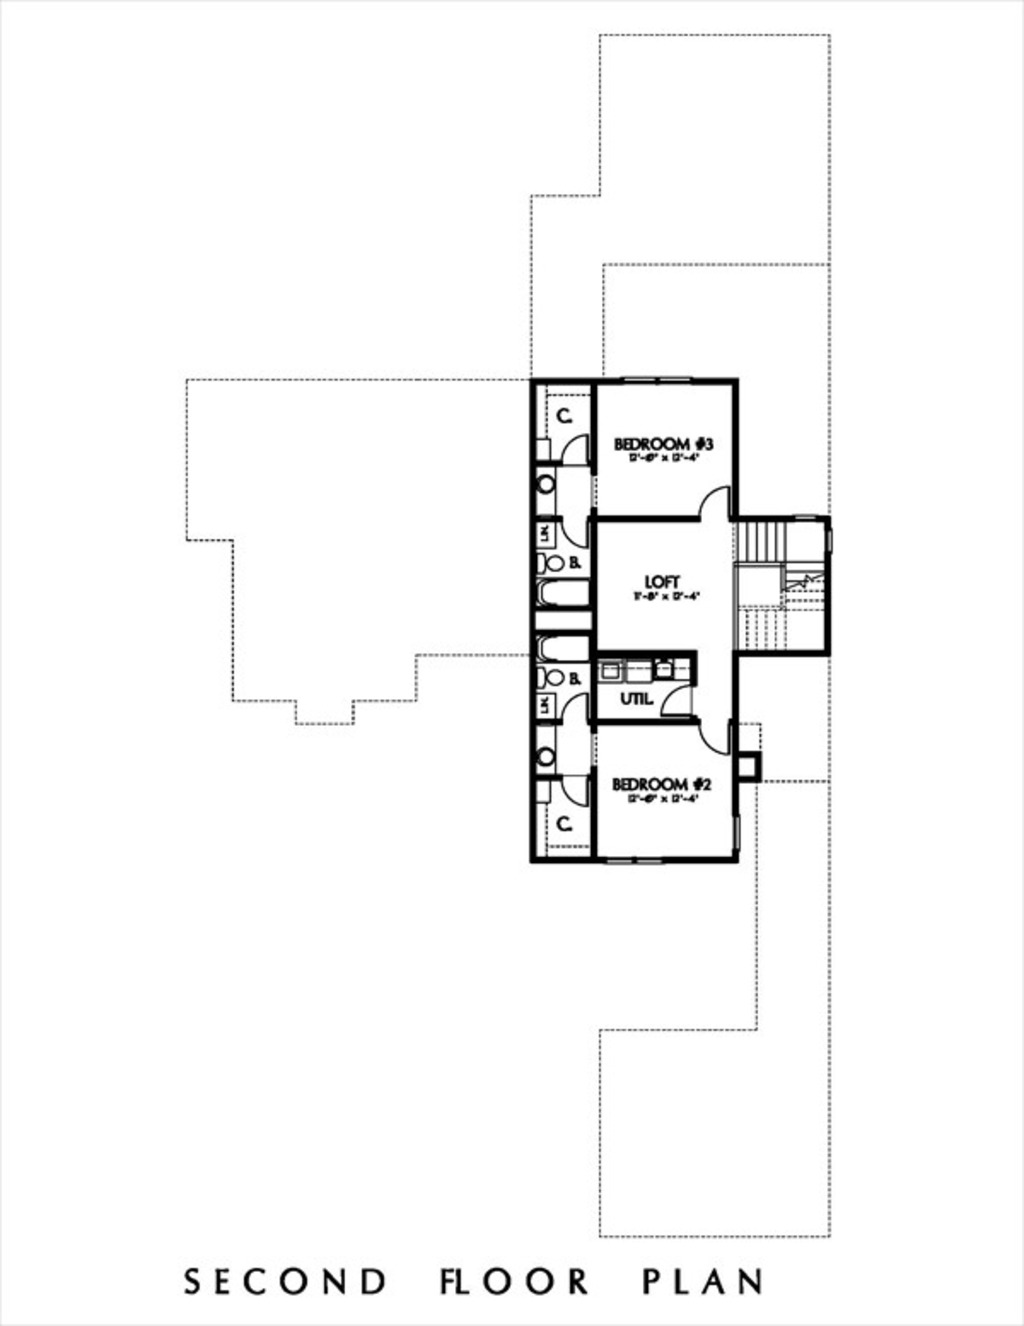door: (651, 678, 698, 721), (688, 716, 729, 758), (564, 434, 608, 471), (553, 511, 588, 552), (564, 767, 598, 805), (696, 485, 731, 521), (561, 689, 594, 724)
large_sink: (534, 548, 572, 581), (535, 662, 574, 687)
stairs: (737, 518, 837, 665)
window: (608, 849, 668, 873), (617, 371, 694, 383), (727, 801, 743, 856)
